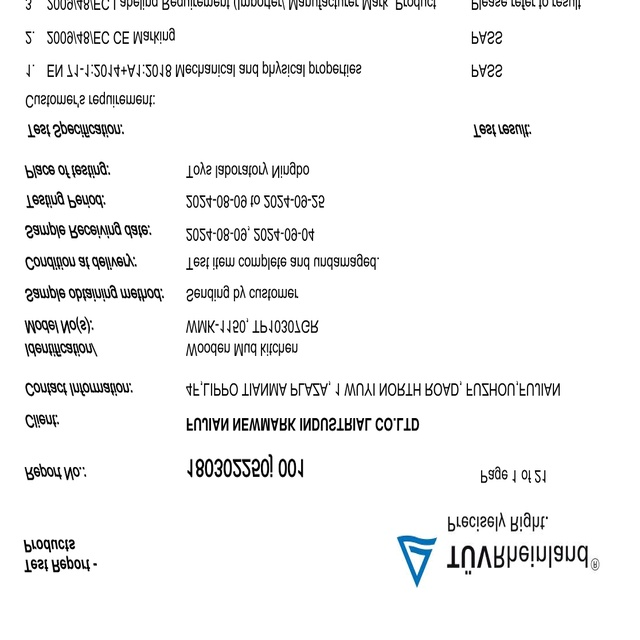tuv_rheinland: (393, 533, 603, 588)
